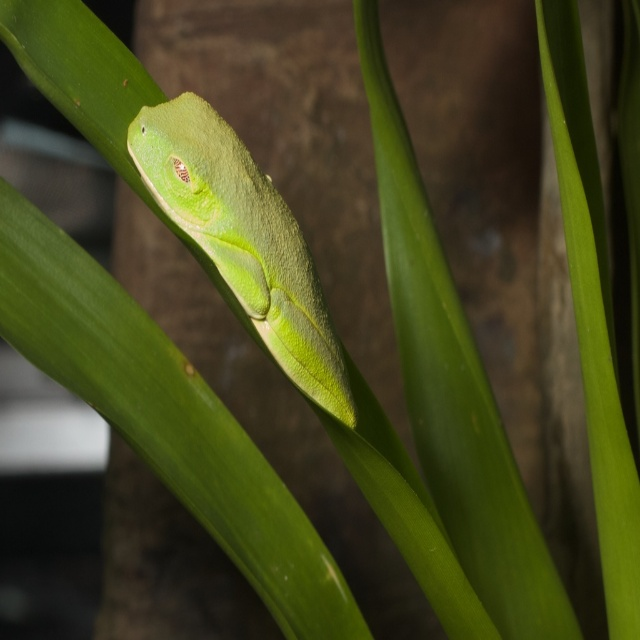Snake: (127, 90, 360, 432)
